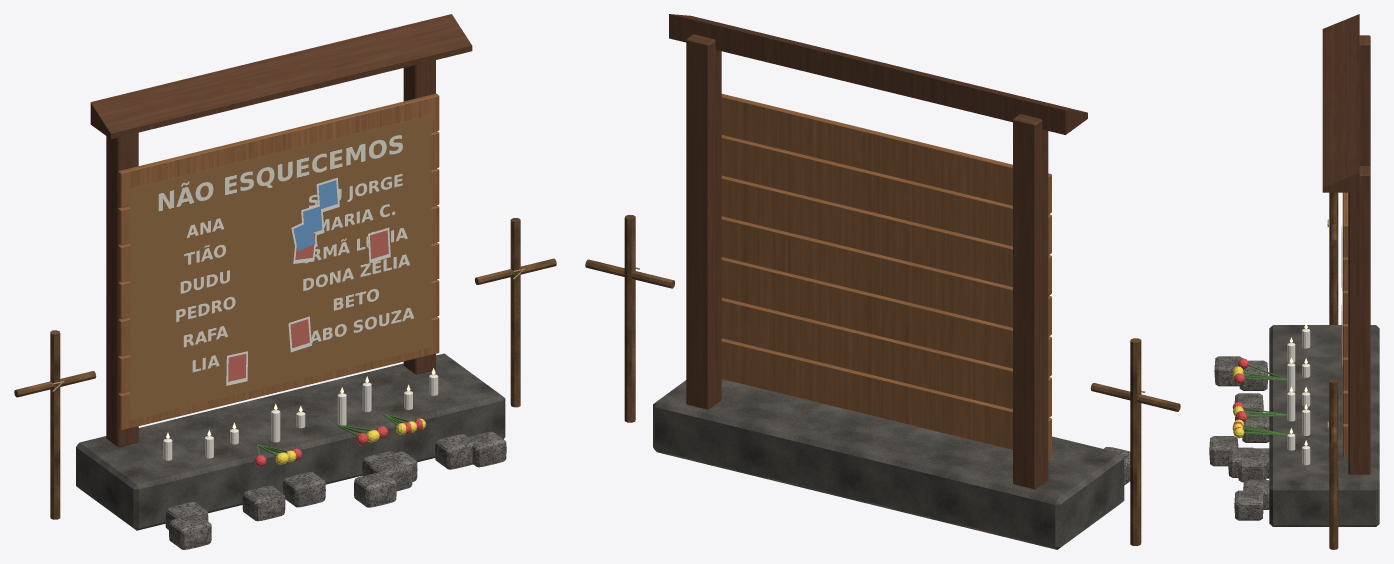
File: memorial.glb
3 renders of one model, left to right at view 1: azimuth 30°, elevation 25°; view 2: azimuth 150°, elevation 25°; view 3: azimuth 270°, elevation 25°, orthographic. The views are drawn at different scales.
Visible parts, largest first — view 1: memorial_nomes_memorial, memorial_pedra_escura, memorial_madeira_escura, memorial_madeira, memorial_pedra, memorial_madeira_lenha, memorial_vela, memorial_revista_capa, memorial_papel, memorial_cartela; view 2: memorial_madeira, memorial_pedra_escura, memorial_madeira_escura, memorial_madeira_lenha; view 3: memorial_pedra_escura, memorial_madeira_escura, memorial_pedra, memorial_madeira_lenha, memorial_vela, memorial_madeira, memorial_muda, memorial_flor_vermelha, memorial_flor_amarela, memorial_nomes_memorial.
Boxes of the visible parts, left/top/right/bottom form: memorial_nomes_memorial: left=130, top=115, right=431, bottom=420; memorial_pedra_escura: left=76, top=353, right=505, bottom=530; memorial_madeira_escura: left=90, top=14, right=472, bottom=447; memorial_madeira: left=118, top=93, right=439, bottom=430; memorial_pedra: left=165, top=431, right=506, bottom=549; memorial_madeira_lenha: left=14, top=218, right=556, bottom=519; memorial_vela: left=163, top=374, right=438, bottom=460; memorial_revista_capa: left=228, top=230, right=388, bottom=381; memorial_papel: left=226, top=177, right=390, bottom=385; memorial_cartela: left=293, top=180, right=337, bottom=251; memorial_madeira: left=721, top=93, right=1051, bottom=458; memorial_pedra_escura: left=653, top=379, right=1124, bottom=549; memorial_madeira_escura: left=669, top=14, right=1087, bottom=489; memorial_madeira_lenha: left=585, top=215, right=1180, bottom=545; memorial_pedra_escura: left=1269, top=325, right=1379, bottom=526; memorial_madeira_escura: left=1322, top=14, right=1370, bottom=474; memorial_pedra: left=1209, top=356, right=1269, bottom=520; memorial_madeira_lenha: left=1329, top=192, right=1338, bottom=549; memorial_vela: left=1287, top=328, right=1310, bottom=465; memorial_madeira: left=1343, top=192, right=1348, bottom=457; memorial_muda: left=1243, top=364, right=1287, bottom=435; memorial_flor_vermelha: left=1232, top=358, right=1248, bottom=432; memorial_flor_amarela: left=1232, top=366, right=1244, bottom=438; memorial_nomes_memorial: left=1342, top=193, right=1342, bottom=445.
Size of the model in its own units: 3.04 by 2.13 by 0.9268.
Materials: 15 (7 with a texture image).
